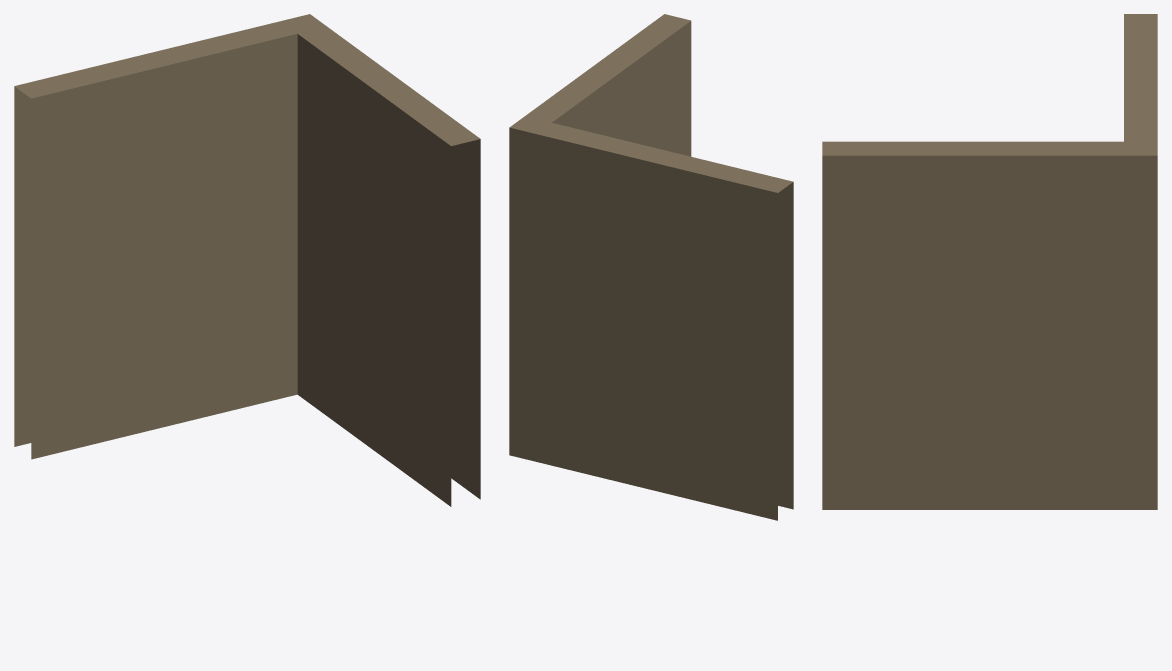
File: SM_Wall_Corner_A_200.fbx
The picture shows the model from 3 angles, left to right: view 1: azimuth 30°, elevation 25°; view 2: azimuth 150°, elevation 25°; view 3: azimuth 270°, elevation 25°; orthographic projection. The views are drawn at different scales.
Parts seen in each view (by area): view 1: SM_Wall_Corner_A_200; view 2: SM_Wall_Corner_A_200; view 3: SM_Wall_Corner_A_200.
Part boxes in pixels (<box>): SM_Wall_Corner_A_200: <box>14,14,480,506</box>; SM_Wall_Corner_A_200: <box>509,14,793,520</box>; SM_Wall_Corner_A_200: <box>822,14,1157,509</box>.
Bounding box in the file's own units: 200 × 330 × 200.
Materials: 3 (3 with a texture image).
